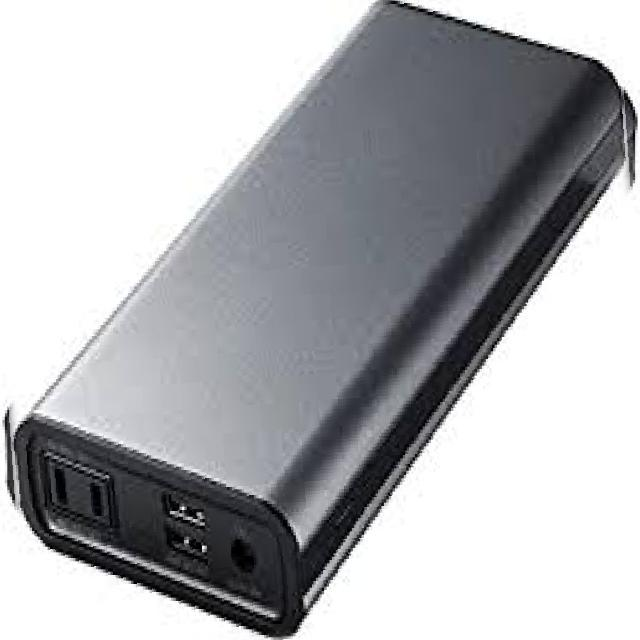Battery: (18, 0, 640, 640)
